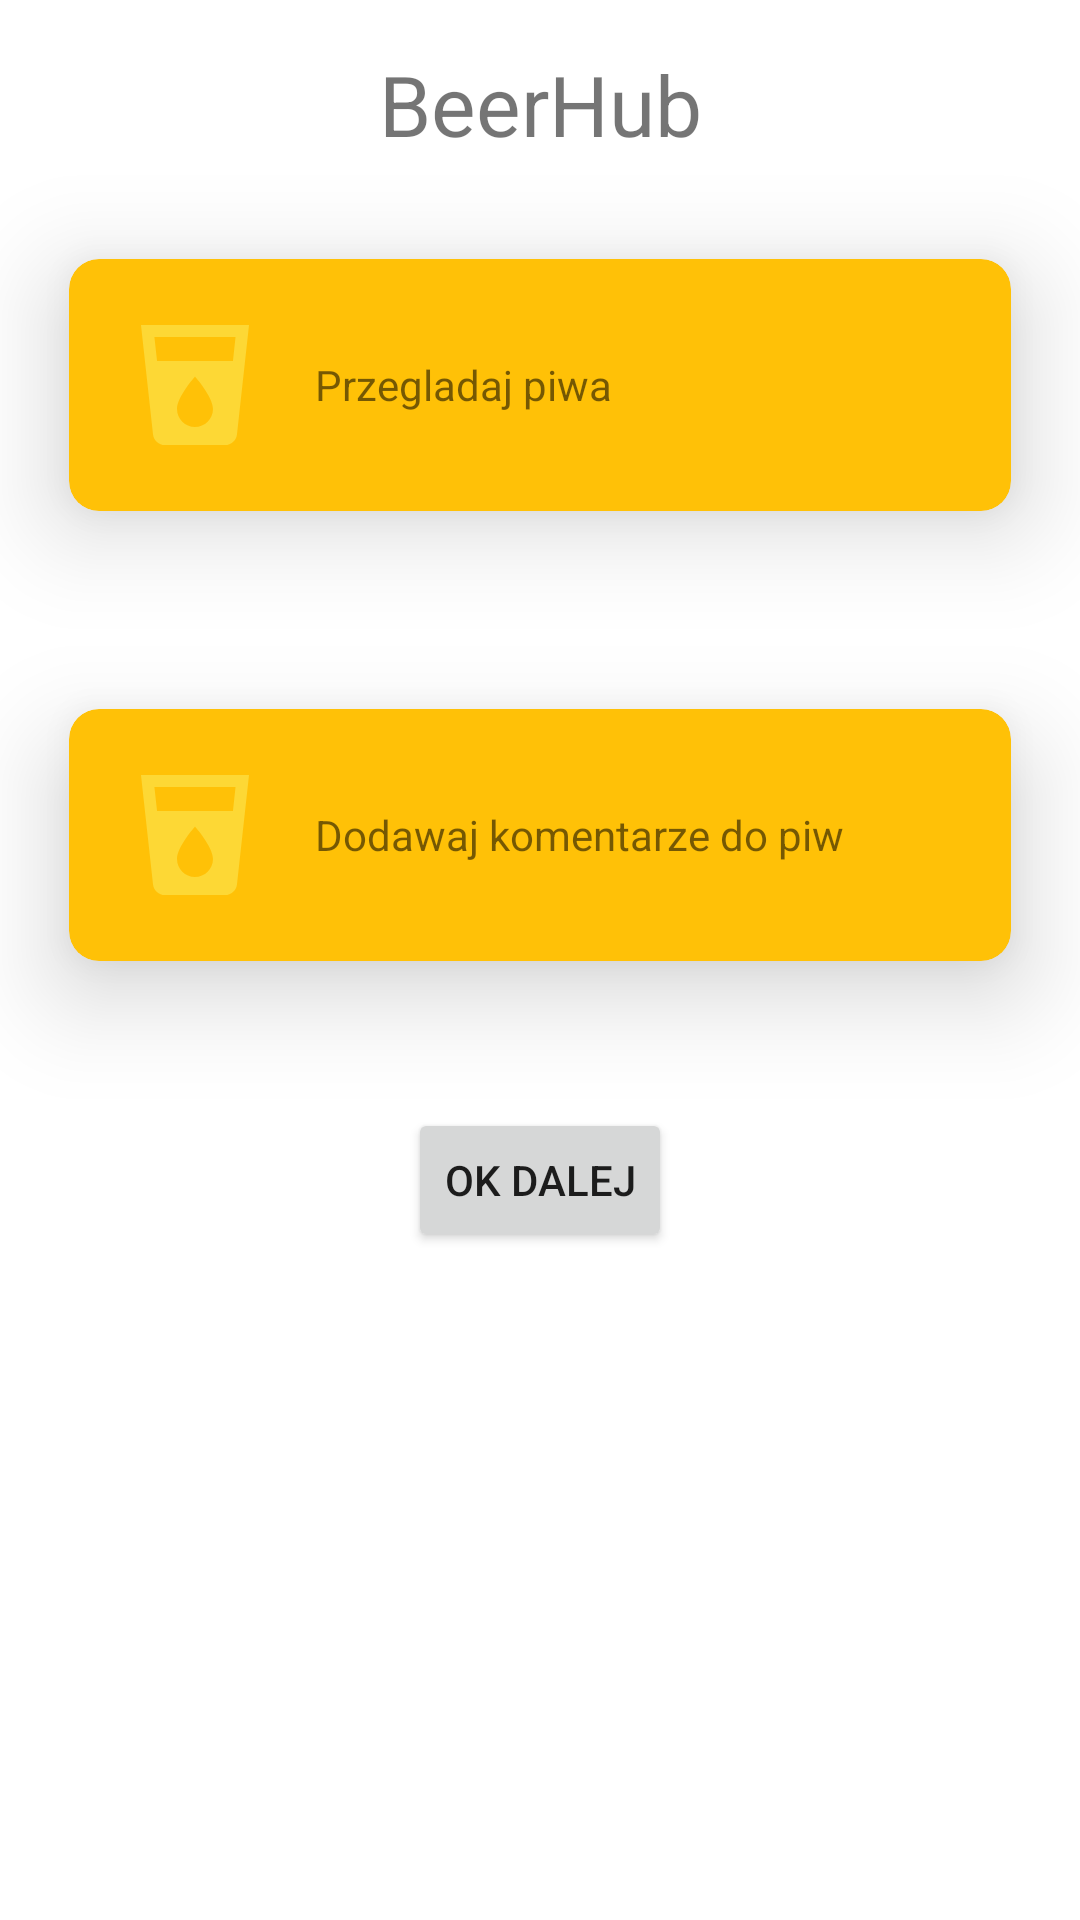

Icon click points for this 1080 x 1920 phone screenshot, format (x,y):
local drink: (195,385), (195,835)
